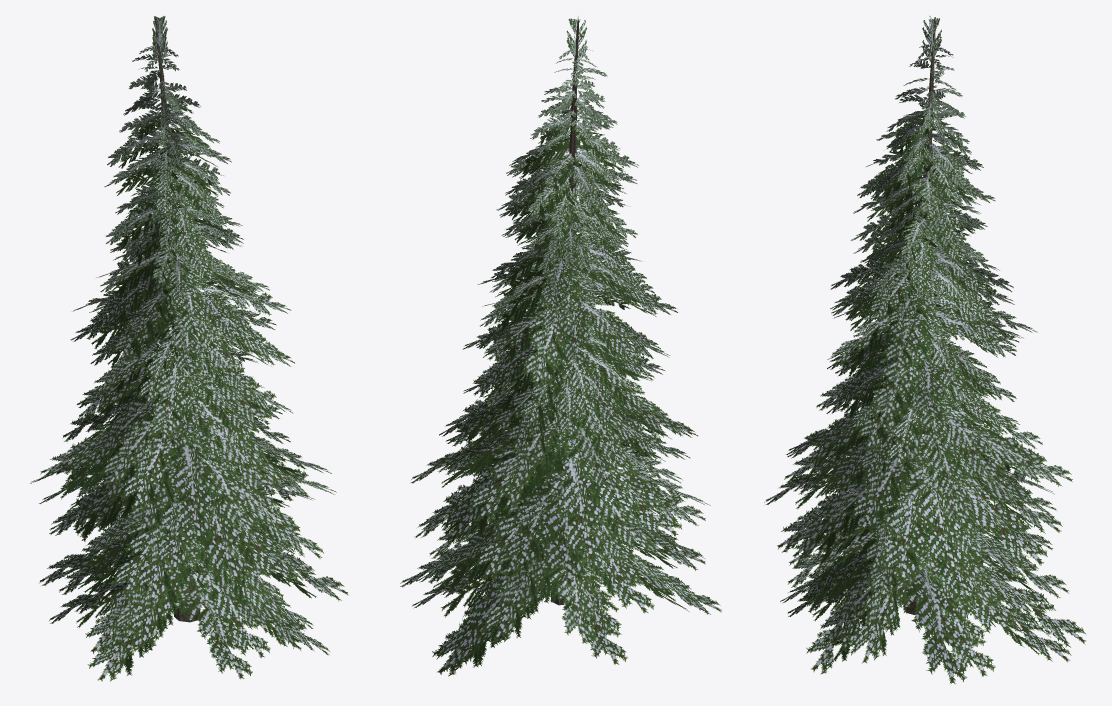
The model's file is w_fir_b.glb.
3 renders of one model, left to right at view 1: azimuth 30°, elevation 25°; view 2: azimuth 150°, elevation 25°; view 3: azimuth 270°, elevation 25°, orthographic. The views are drawn at different scales.
Visible parts, largest first — view 1: body|leaves_fir, body|bark_fir; view 2: body|leaves_fir, body|bark_fir; view 3: body|leaves_fir, body|bark_fir.
Part boxes in pixels (x1,y1,x2,y2): body|leaves_fir: [30, 16, 348, 681]; body|bark_fir: [154, 17, 200, 622]; body|leaves_fir: [400, 16, 721, 676]; body|bark_fir: [550, 20, 579, 605]; body|leaves_fir: [764, 15, 1085, 684]; body|bark_fir: [905, 17, 935, 614].
Size of the model in its own units: 5.6 by 11.5 by 5.73.
2 materials, 2 textured.
